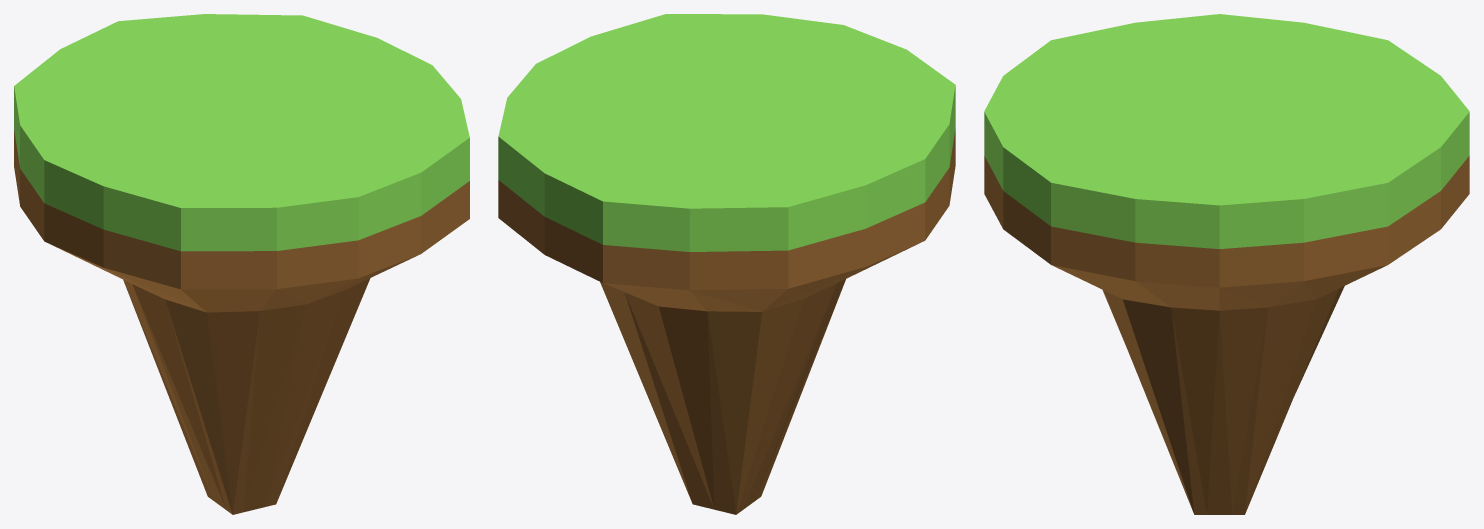
File: Island.dae
3 views of the same model, side by side, from view 1: azimuth 30°, elevation 25°; view 2: azimuth 150°, elevation 25°; view 3: azimuth 270°, elevation 25° (orthographic).
Parts seen in each view (by area): view 1: Cube; view 2: Cube; view 3: Cube.
Boxes of the visible parts, box(x1,y1,x2,y2) form: Cube: box(14, 14, 469, 514); Cube: box(498, 14, 955, 514); Cube: box(984, 14, 1469, 514).
Size of the model in its own units: 17.91 by 19.2 by 17.14.
